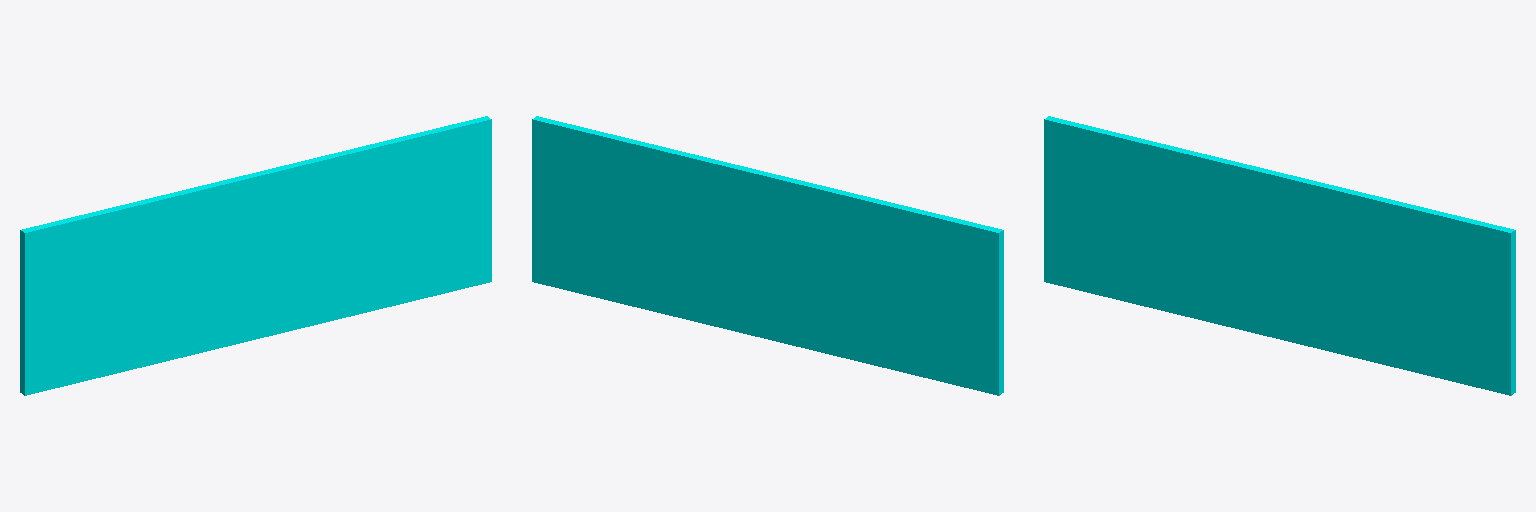
URDF robot description (ball):
<?xml version="0.0" ?>
<robot name="ball">
    <link name="wall">
        <contact>
            <lateral_friction value="1"/>
        </contact>

        <inertial>
            <origin xyz="0 0 0" rpy="0 0 0"/>
            <mass value="0.0"/>
            <inertia ixx="0"  ixy="0"  ixz="0" iyy="0" iyz="0" izz="0" />
        </inertial>

        <visual>
            <origin xyz="0 0 0" rpy="0 0 0" />
            <geometry>
                <box size="6 0.1 2" />
            </geometry>
            <material name="Cyan">
                <color rgba="0 1.0 1.0 1.0"/>
            </material>
        </visual>

        <collision>
            <origin xyz="0 0 0" rpy="0 0 0"/>
            <geometry>
                <box size="6 0.1 2" />
            </geometry>
        </collision>
    </link>
</robot>

--- Facts derived from the render (not from the file) ---
The picture shows the robot from 3 angles, left to right: view 1: azimuth 30°, elevation 25°; view 2: azimuth 150°, elevation 25°; view 3: azimuth 330°, elevation 25°; orthographic projection.
Robot: ball — 1 links, 0 joints (none); root link wall; default pose: all joints at 0.
Links seen in each view (by area): view 1: wall; view 2: wall; view 3: wall.
Boxes of the visible links, box(x1,y1,x2,y2) form: wall: box(20, 116, 491, 395); wall: box(532, 116, 1003, 395); wall: box(1044, 116, 1515, 395).
Size in the robot's own frame: 6 by 0.1 by 2 metres.
Geometry: primitives only (box / cylinder / sphere), no mesh files.